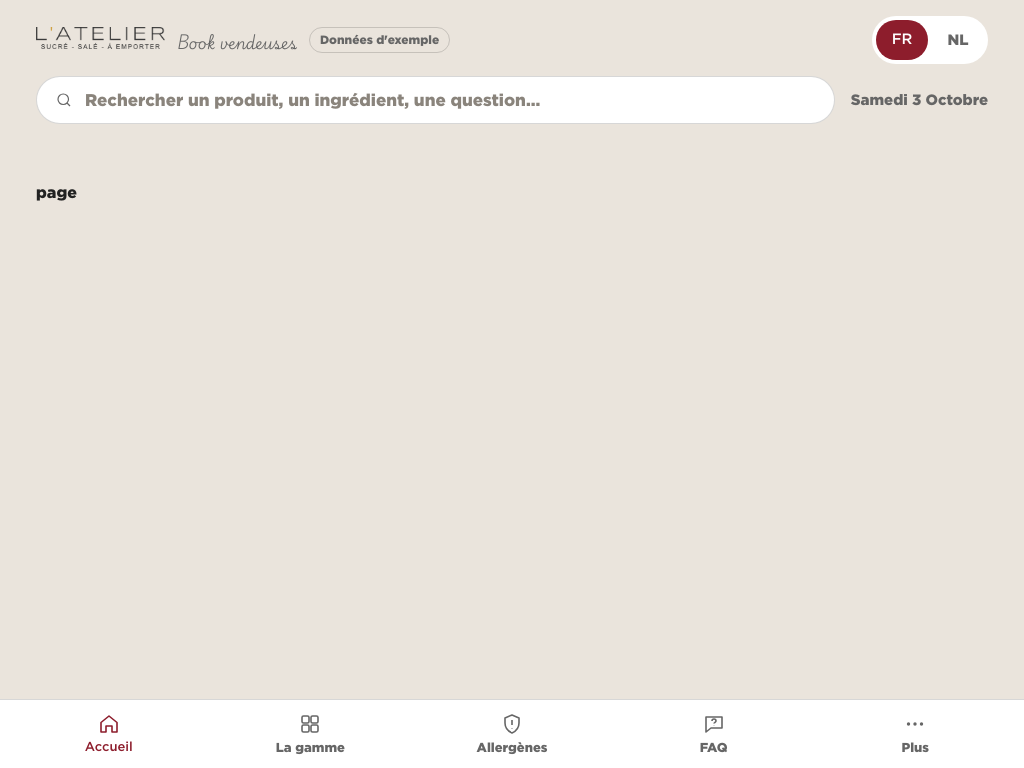
it: AppShell — landscape (≥ 1000 px) › switches language (labels, pressed state, document lang)
Click the button "NL".
click(958, 40)  # box x1=932 y1=20 x2=984 y2=60
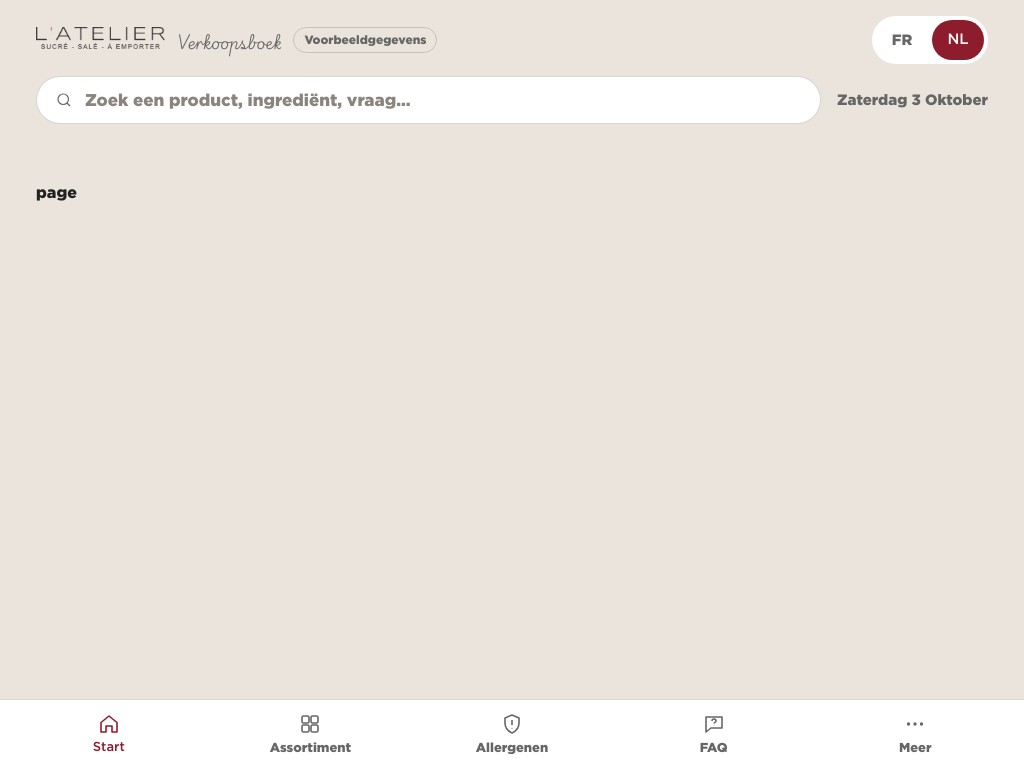
expect the navigation bar named "Navigatie" is shown: met, box x1=0 y1=699 x2=1023 y2=767
expect the buttons read "Start", "Assortiment", "Allergenen", "FAQ", "Meer", in this order: met
expect the element named "Taal" is shown: met, box x1=872 y1=16 x2=988 y2=64
// The "Plus" sheet follows the language.
Click the button "Meer".
click(915, 734)  # box x1=814 y1=706 x2=1016 y2=762
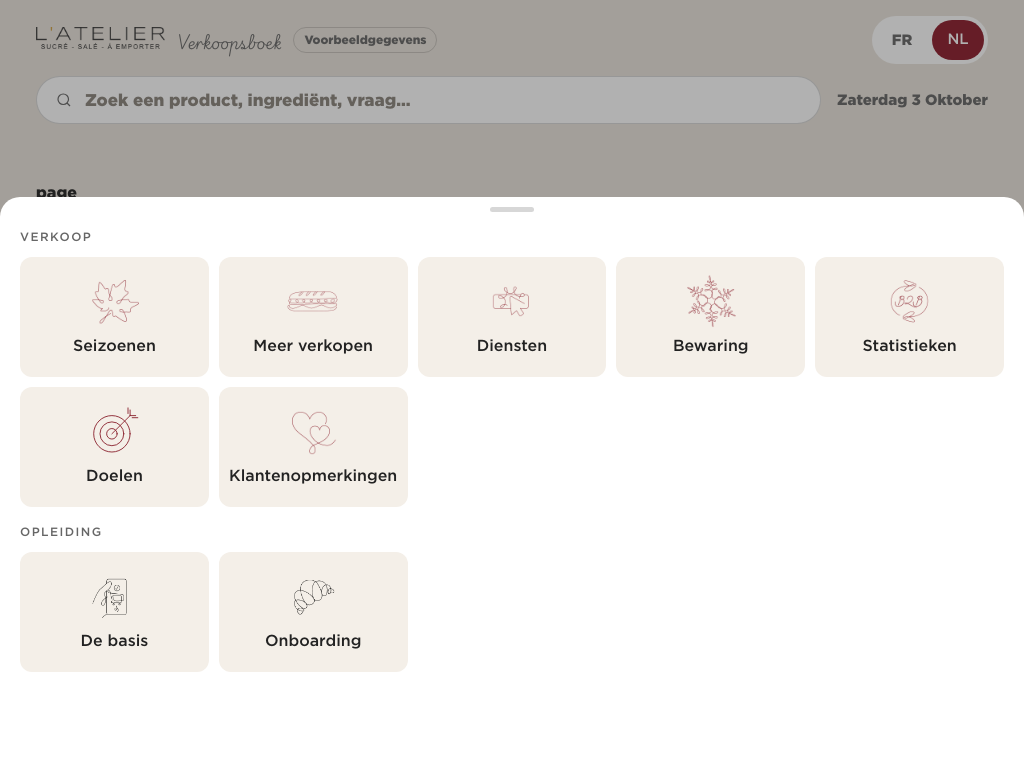
expect the text "Verkoop" is shown: met, box x1=20 y1=231 x2=92 y2=243
expect the text "Opleiding" is shown: met, box x1=20 y1=526 x2=102 y2=538
expect the button "De basis" is shown: met, box x1=20 y1=552 x2=209 y2=672
